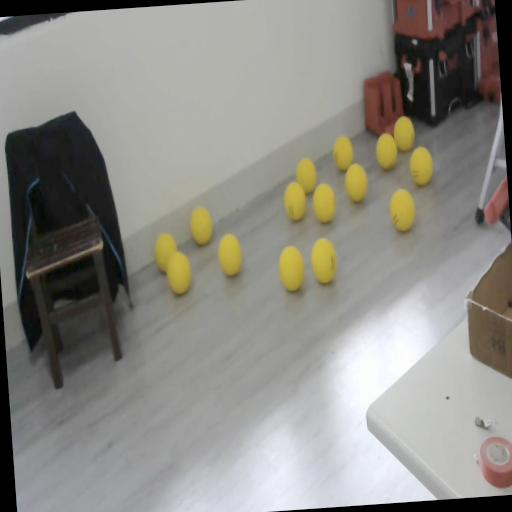FUEL: (276, 244, 306, 294), (164, 248, 194, 296), (387, 186, 417, 234), (309, 236, 338, 285), (216, 231, 245, 278), (311, 180, 337, 224), (343, 162, 369, 204), (408, 146, 434, 188), (188, 204, 214, 246), (294, 156, 319, 196), (283, 182, 307, 222), (392, 114, 416, 152), (374, 132, 398, 170), (332, 134, 354, 172)
